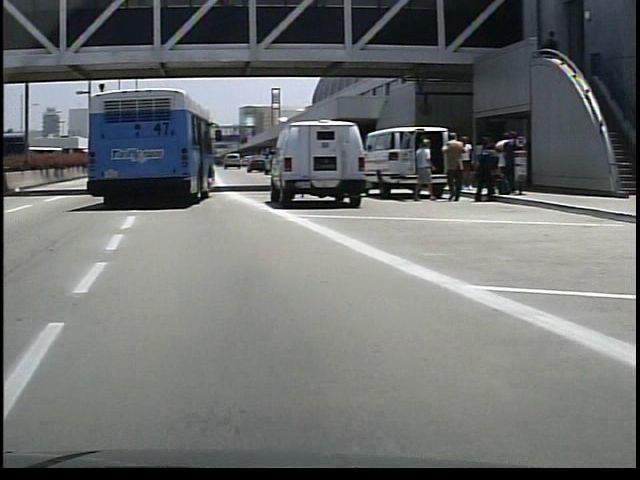person: (436, 130, 462, 204), (408, 133, 432, 201)
